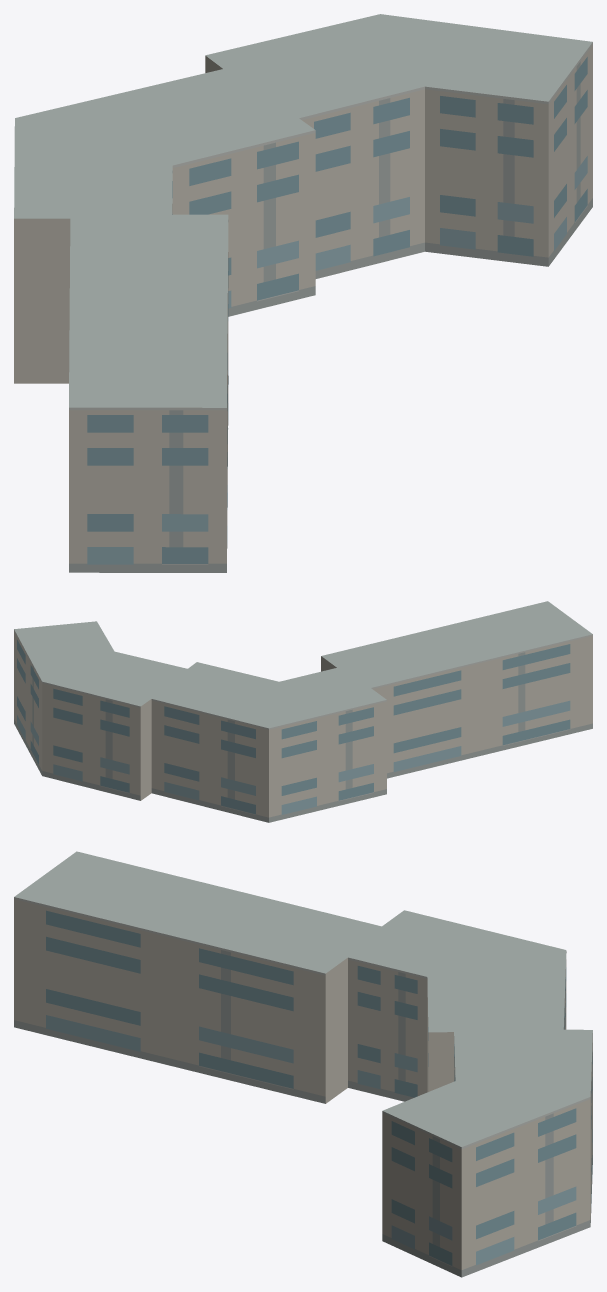
The model's file is residential-3e0e6eb3-edb1-46fb-9df9-00d79a4b10f7.glb.
3 renders of one model, top to bottom at view 1: azimuth 30°, elevation 25°; view 2: azimuth 150°, elevation 25°; view 3: azimuth 270°, elevation 25°, orthographic. The views are drawn at different scales.
Parts seen in each view (by area): view 1: residential-3e0e6eb3-edb1-46fb-9df9-00d79a4b10f7.tmp; view 2: residential-3e0e6eb3-edb1-46fb-9df9-00d79a4b10f7.tmp; view 3: residential-3e0e6eb3-edb1-46fb-9df9-00d79a4b10f7.tmp.
Part boxes in pixels (bbox=[...]): residential-3e0e6eb3-edb1-46fb-9df9-00d79a4b10f7.tmp: bbox=[14, 14, 592, 572]; residential-3e0e6eb3-edb1-46fb-9df9-00d79a4b10f7.tmp: bbox=[14, 601, 592, 822]; residential-3e0e6eb3-edb1-46fb-9df9-00d79a4b10f7.tmp: bbox=[14, 851, 592, 1277].
Size of the model in its own units: 74.24 by 15.25 by 61.39.
